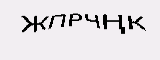Ж: (18, 14, 45, 31)
К: (126, 13, 151, 33)
П: (46, 12, 67, 29)
Р: (66, 11, 82, 29)
Ч: (82, 11, 101, 28)
Ң: (102, 11, 129, 34)
